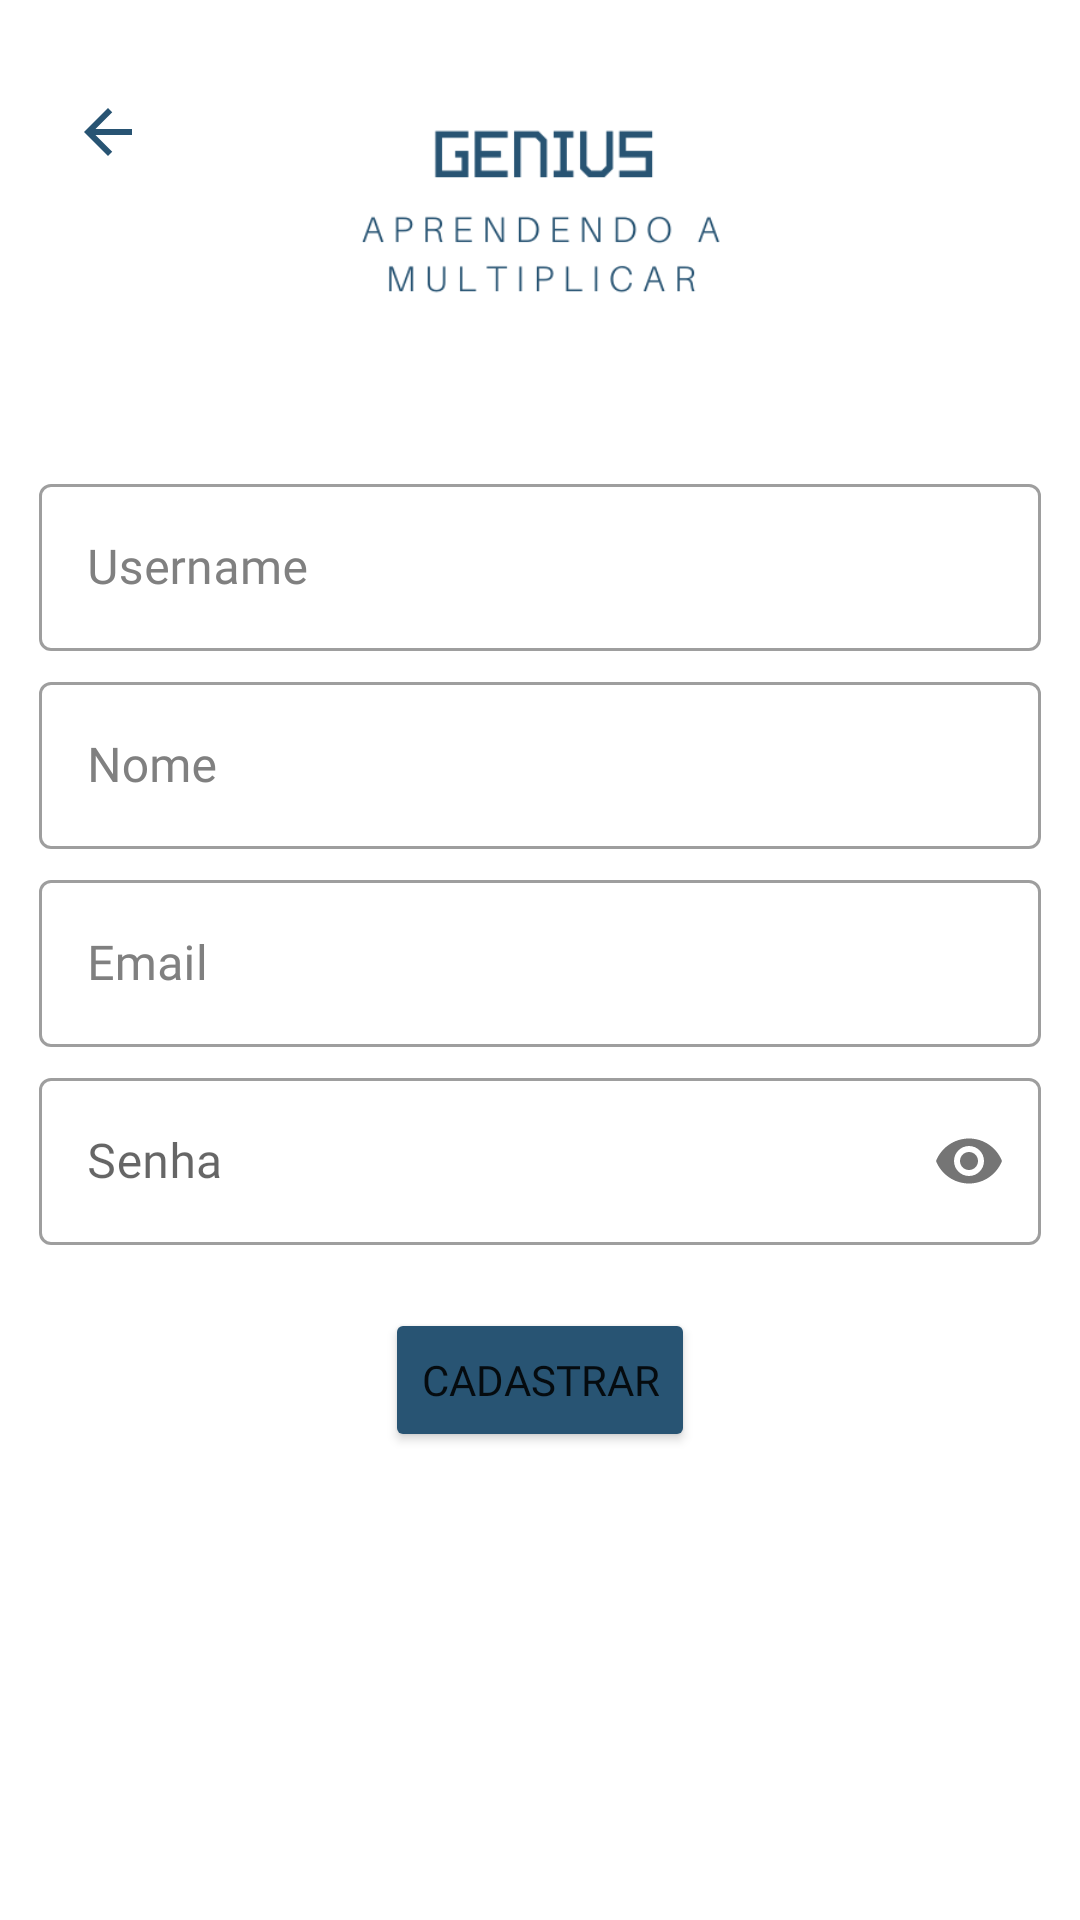

Point at icon controls on the screen. Image size 1080×1920, points as (x,y).
Botão de retorno: (108,132)
